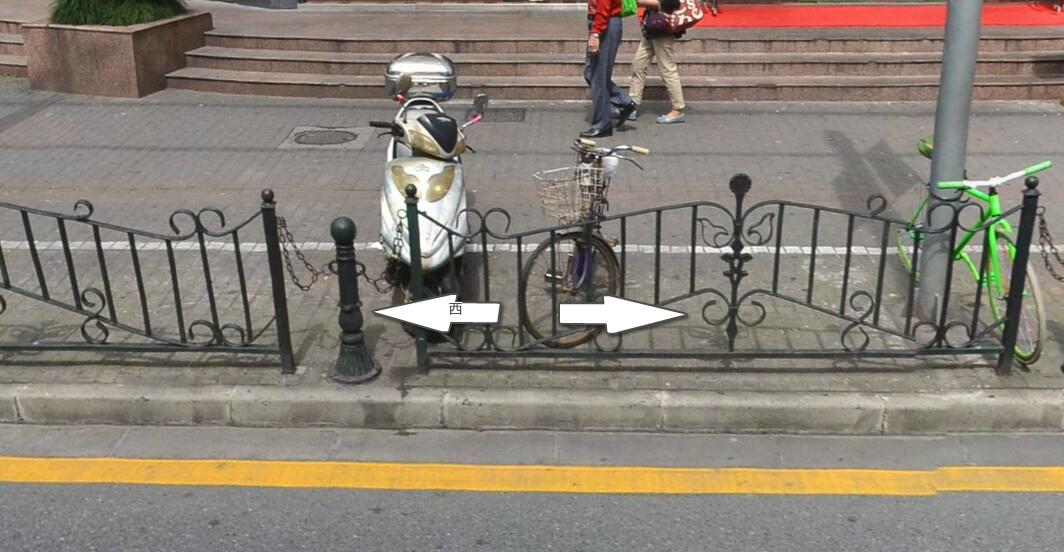side: (445, 388, 663, 432), (663, 391, 884, 434), (232, 386, 443, 430), (15, 385, 231, 423), (883, 391, 1063, 436)
